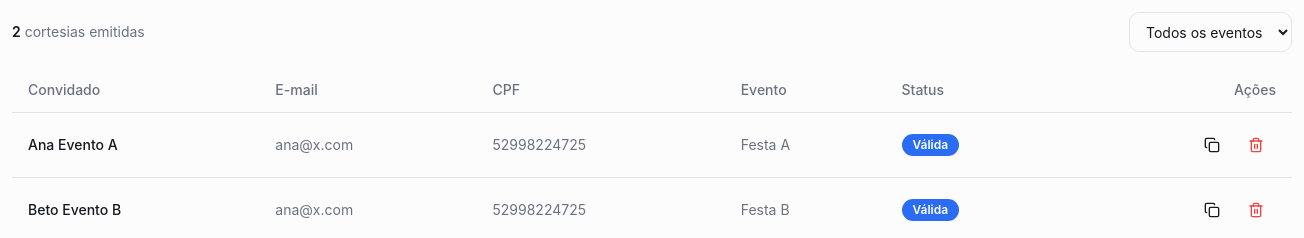
Test: Aba Cortesias do produtor — nunca mostra cortesias 'admin' › filtra por evento
This screenshot has width=1304, height=238.
Check: the text "Ana Evento A" is shown, box [12,112,259,178]
Select "Festa B" in the dropdown named "Filtrar cortesias por evento" at x=1210, y=32, box [1129,12,1292,52]
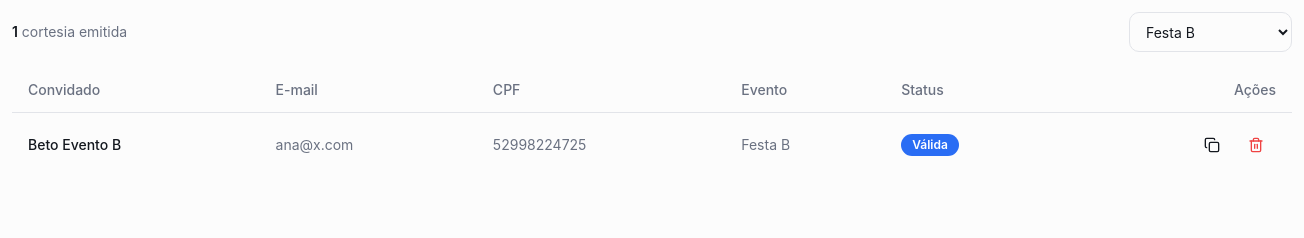
Check: the text "Beto Evento B" is shown, box [12,112,260,177]
Check: the text "Ana Evento A" is gone
